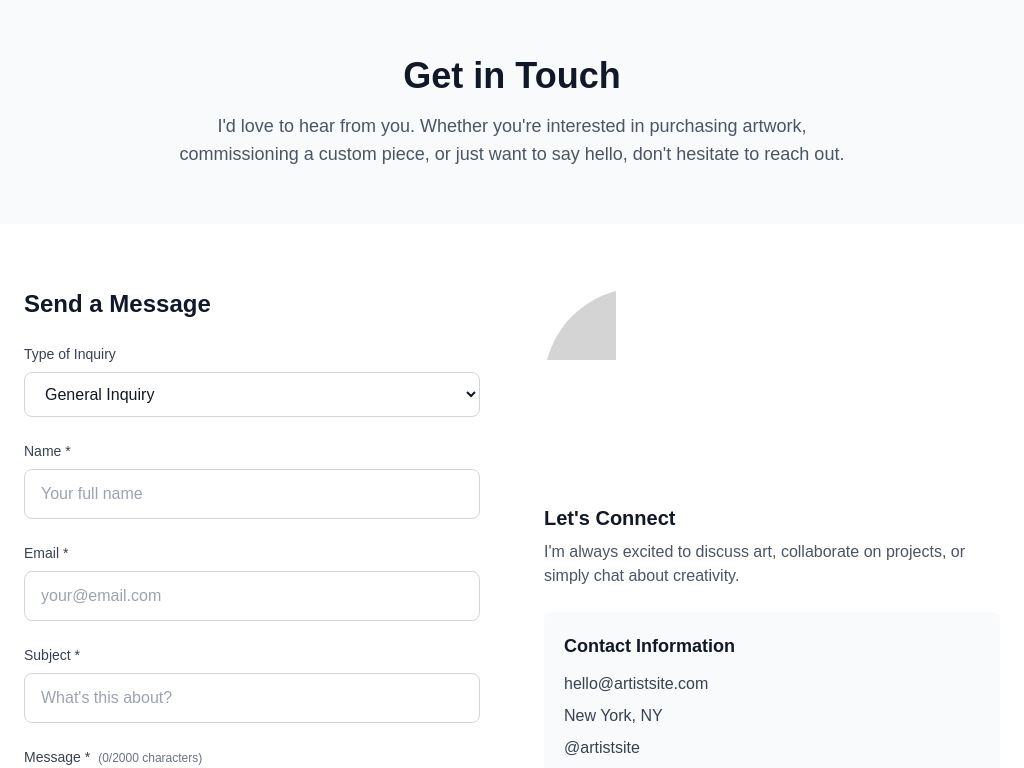
Test: Contact Page › Form Validation › validates email format
The width and height of the screenshot is (1024, 768).
Type "invalid-email" into the field labelled "Email *" at point(252, 596), box 24,571 -> 480,621
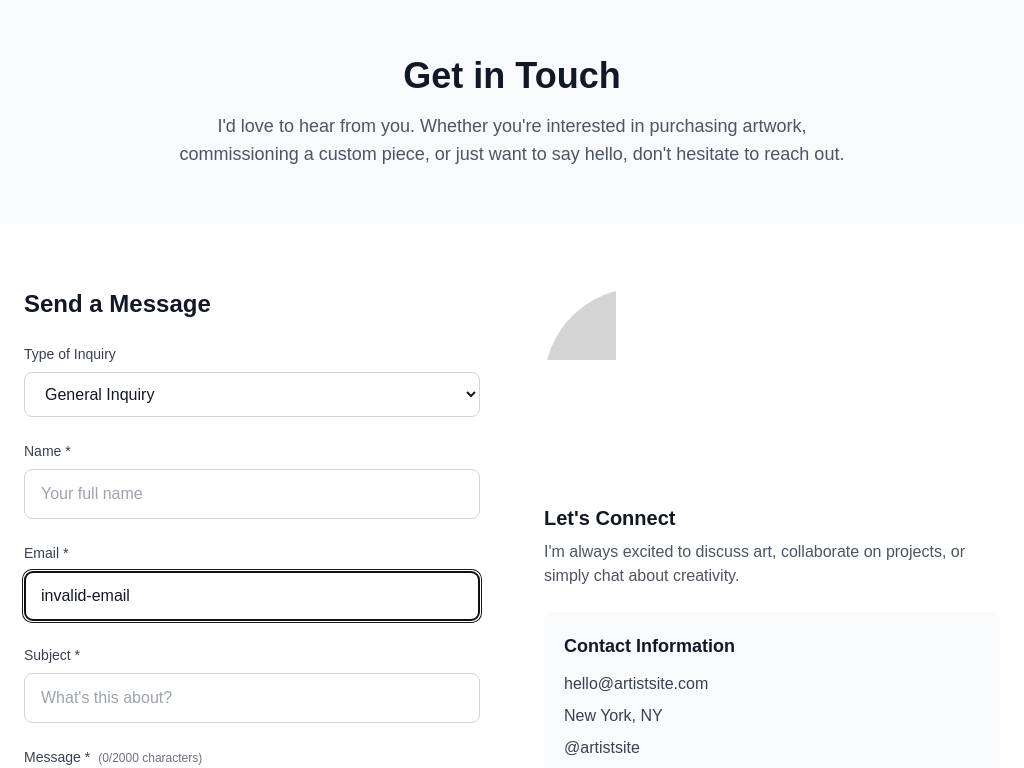
Press Tab
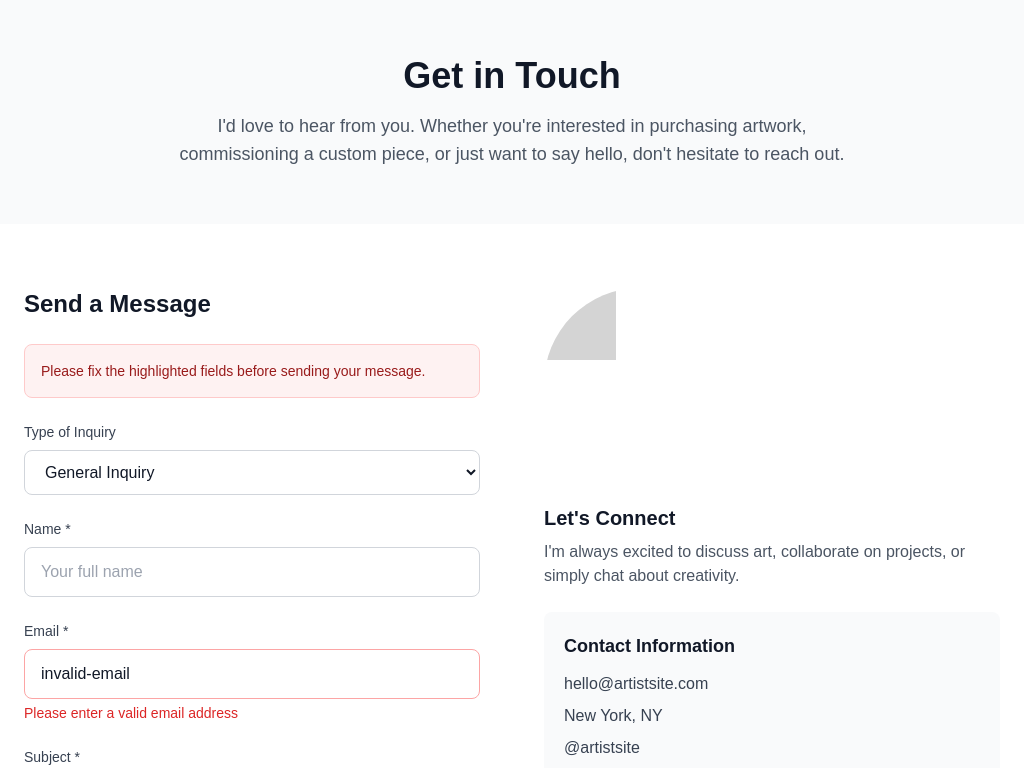
Check: the text "Please enter a valid email address" is shown, box 24,705 -> 238,721
